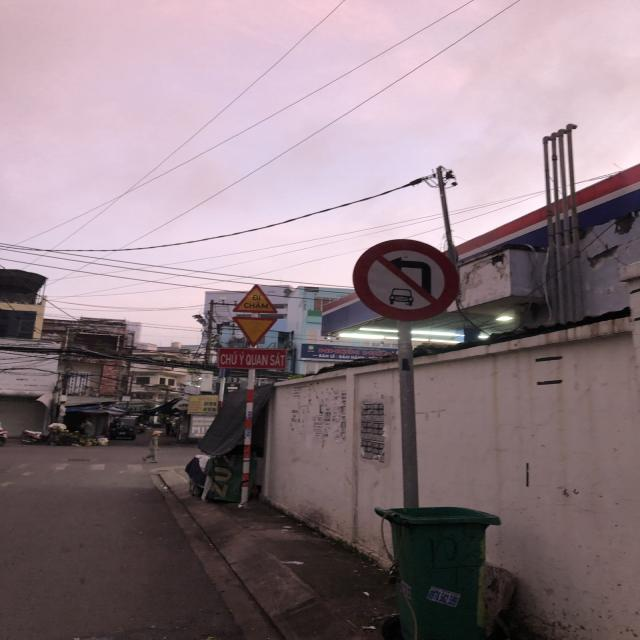Bien bao cam xe o to re trai: (348, 234, 466, 322)
Bien bao di cham: (228, 281, 282, 314)
Bien bao giao nhau voi duong uu tien: (229, 313, 281, 348)
